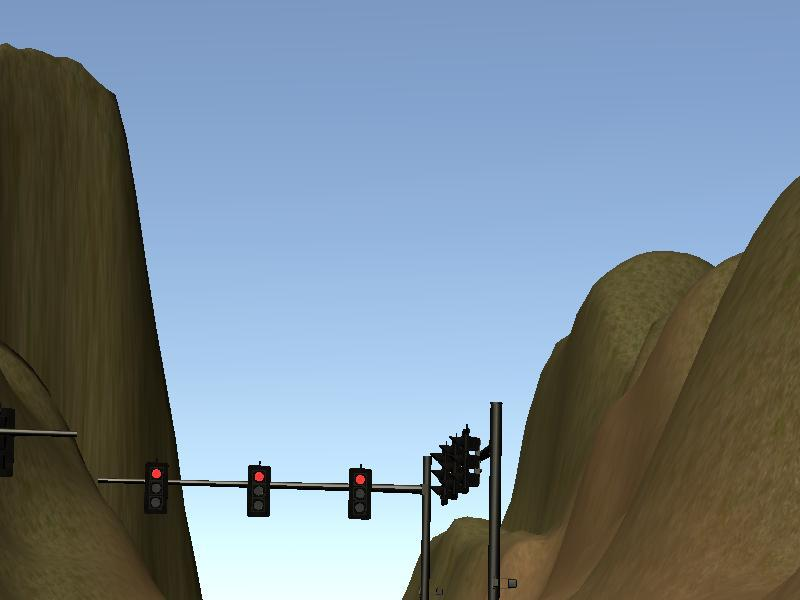Red: (144, 463, 169, 515), (347, 468, 372, 520), (245, 465, 270, 517)
